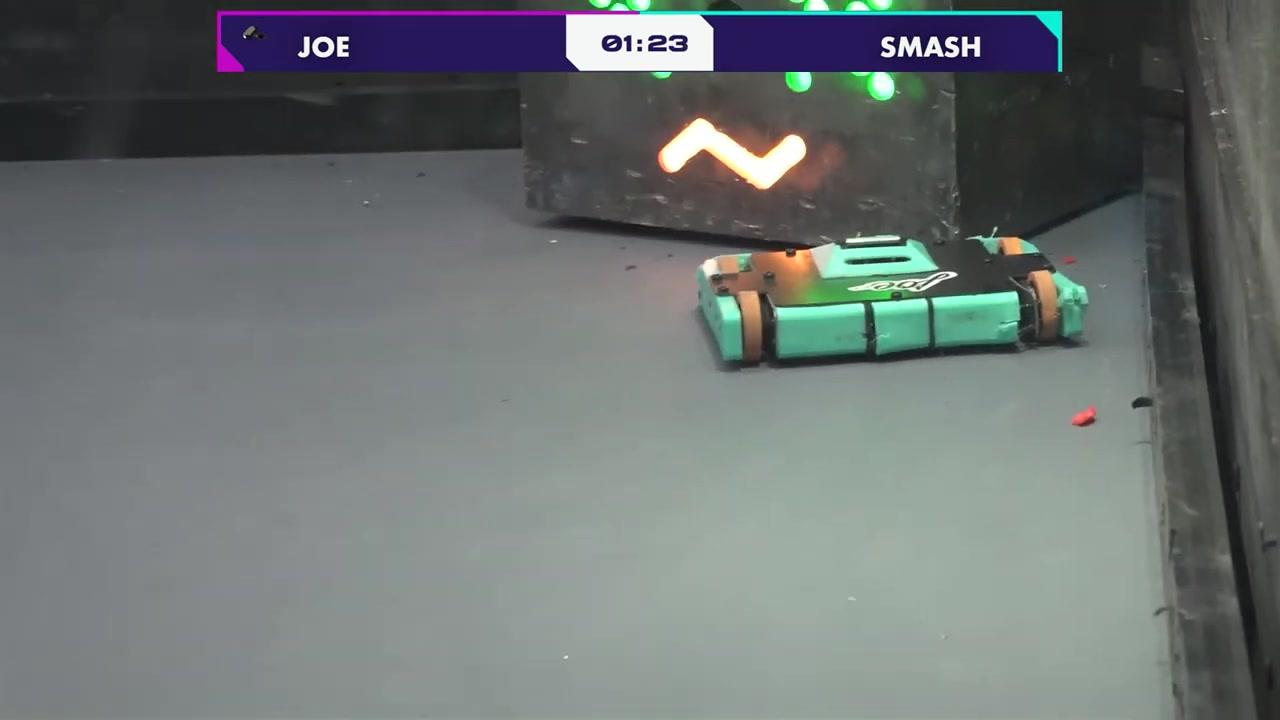combatbot: (696, 231, 1089, 366)
debris: (1071, 404, 1099, 428)
housebot: (514, 73, 1149, 262)
